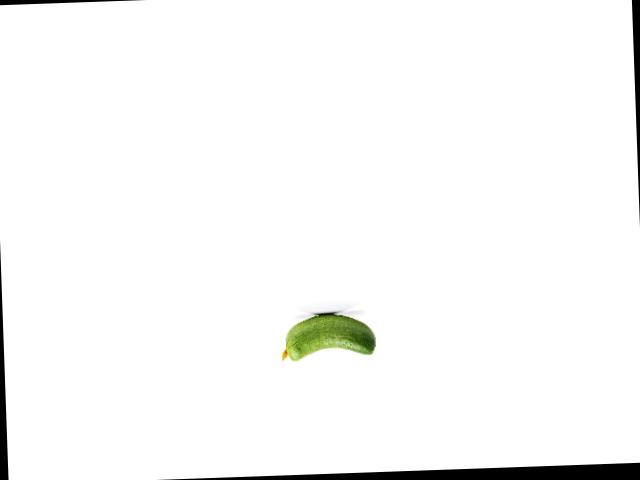cucumber: (279, 311, 377, 361)
